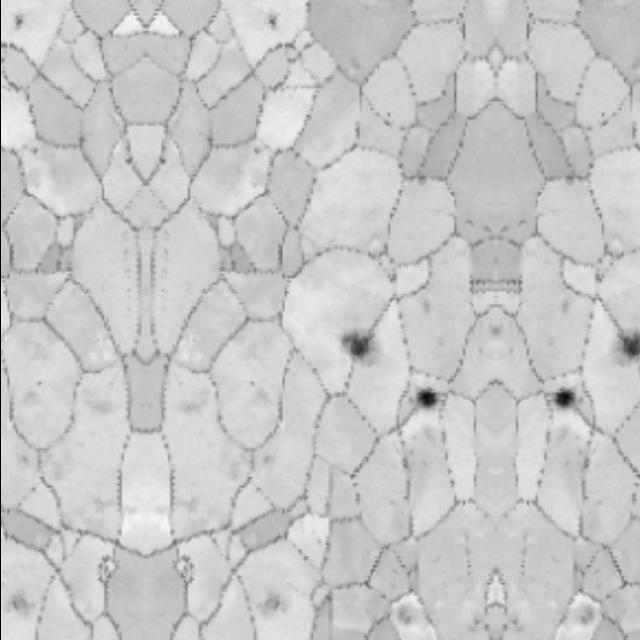good_void: (246, 566, 296, 628), (0, 566, 42, 628), (340, 324, 382, 372), (608, 324, 640, 372), (173, 550, 203, 589), (85, 550, 115, 589), (412, 379, 443, 415), (547, 379, 577, 415), (257, 8, 289, 41), (0, 8, 31, 41), (570, 598, 599, 631), (391, 598, 419, 631), (414, 288, 436, 319), (554, 288, 576, 319), (250, 445, 277, 469), (11, 445, 38, 469), (150, 150, 170, 175), (118, 150, 138, 175), (247, 144, 266, 163), (22, 144, 41, 163), (381, 106, 393, 124), (597, 106, 609, 124)
